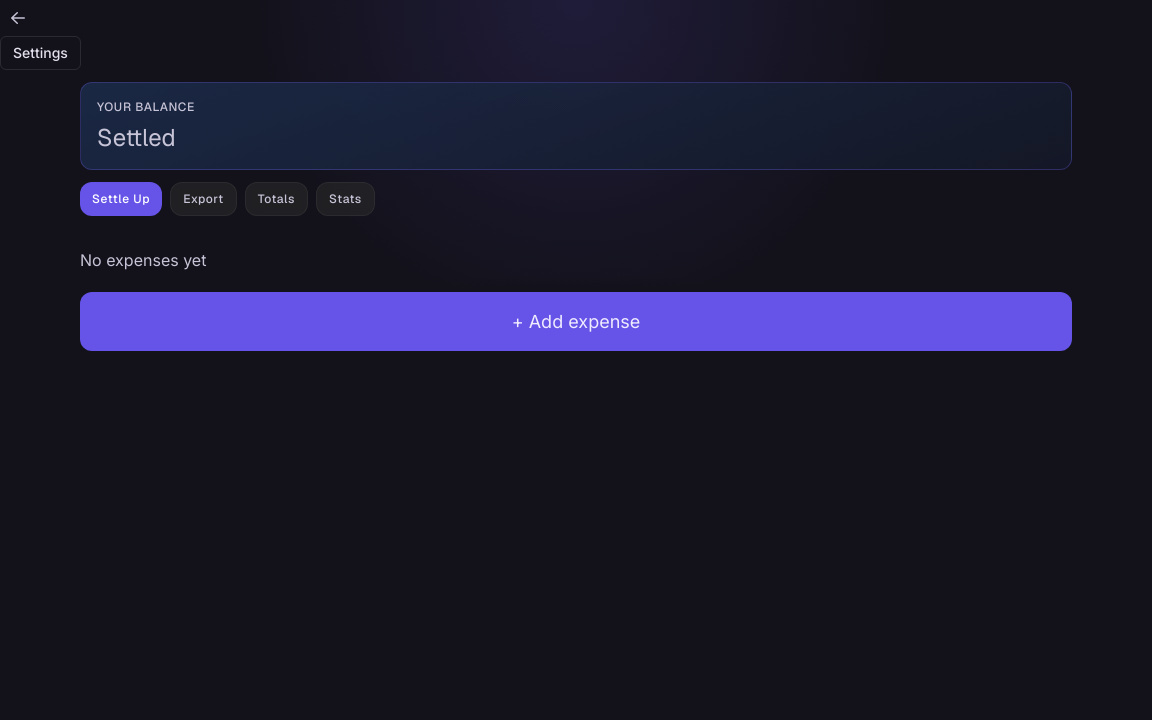
Test: GroupDetailView overlay routes › clicking Export pushes ?overlay=export and renders the export modal with month and year <select>s
This screenshot has width=1152, height=720.
Click the button "Export": [203, 199] box [170, 182, 237, 216]
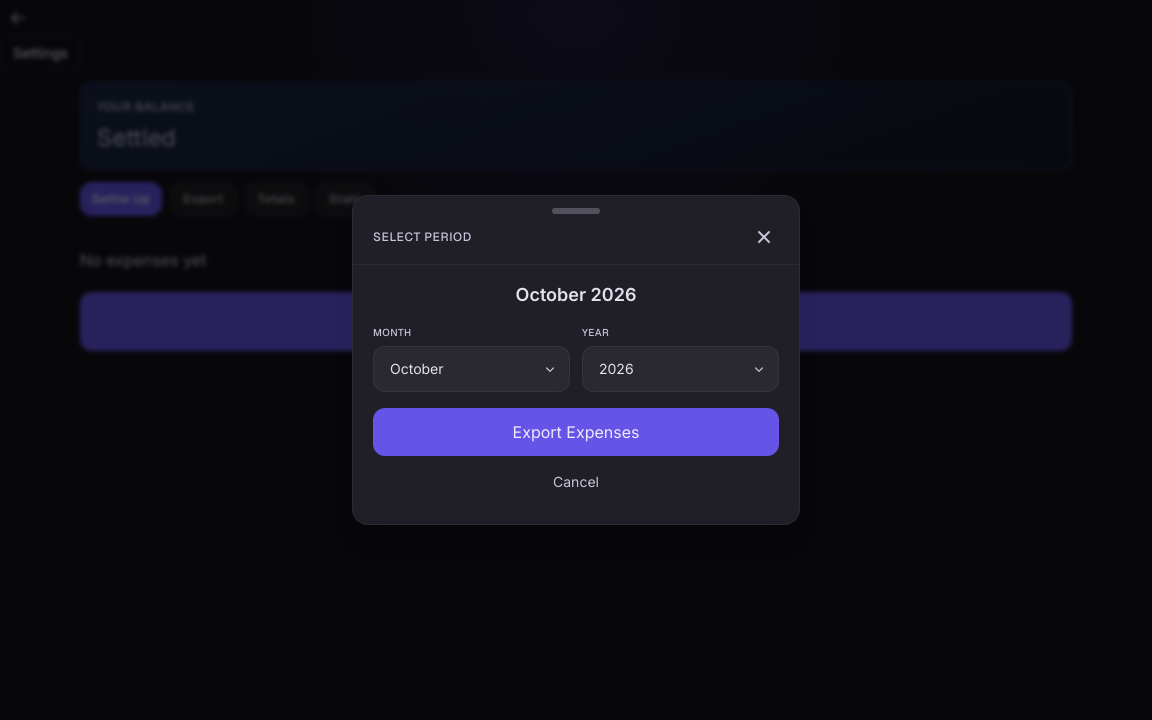
Now the text "Select Period" is shown, box [373, 229, 472, 245]
Now the text "Month" is shown, box [373, 326, 412, 339]
Now the text "Year" is shown, box [582, 326, 609, 339]
